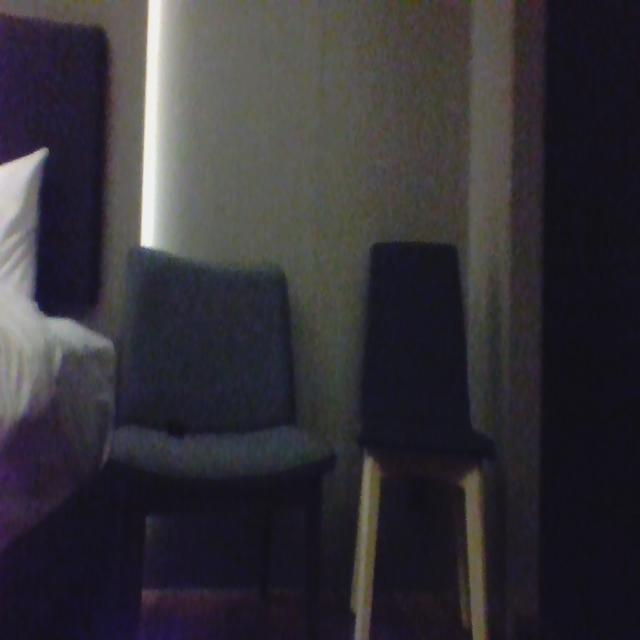empty: (108, 246, 291, 466), (370, 235, 475, 466)
